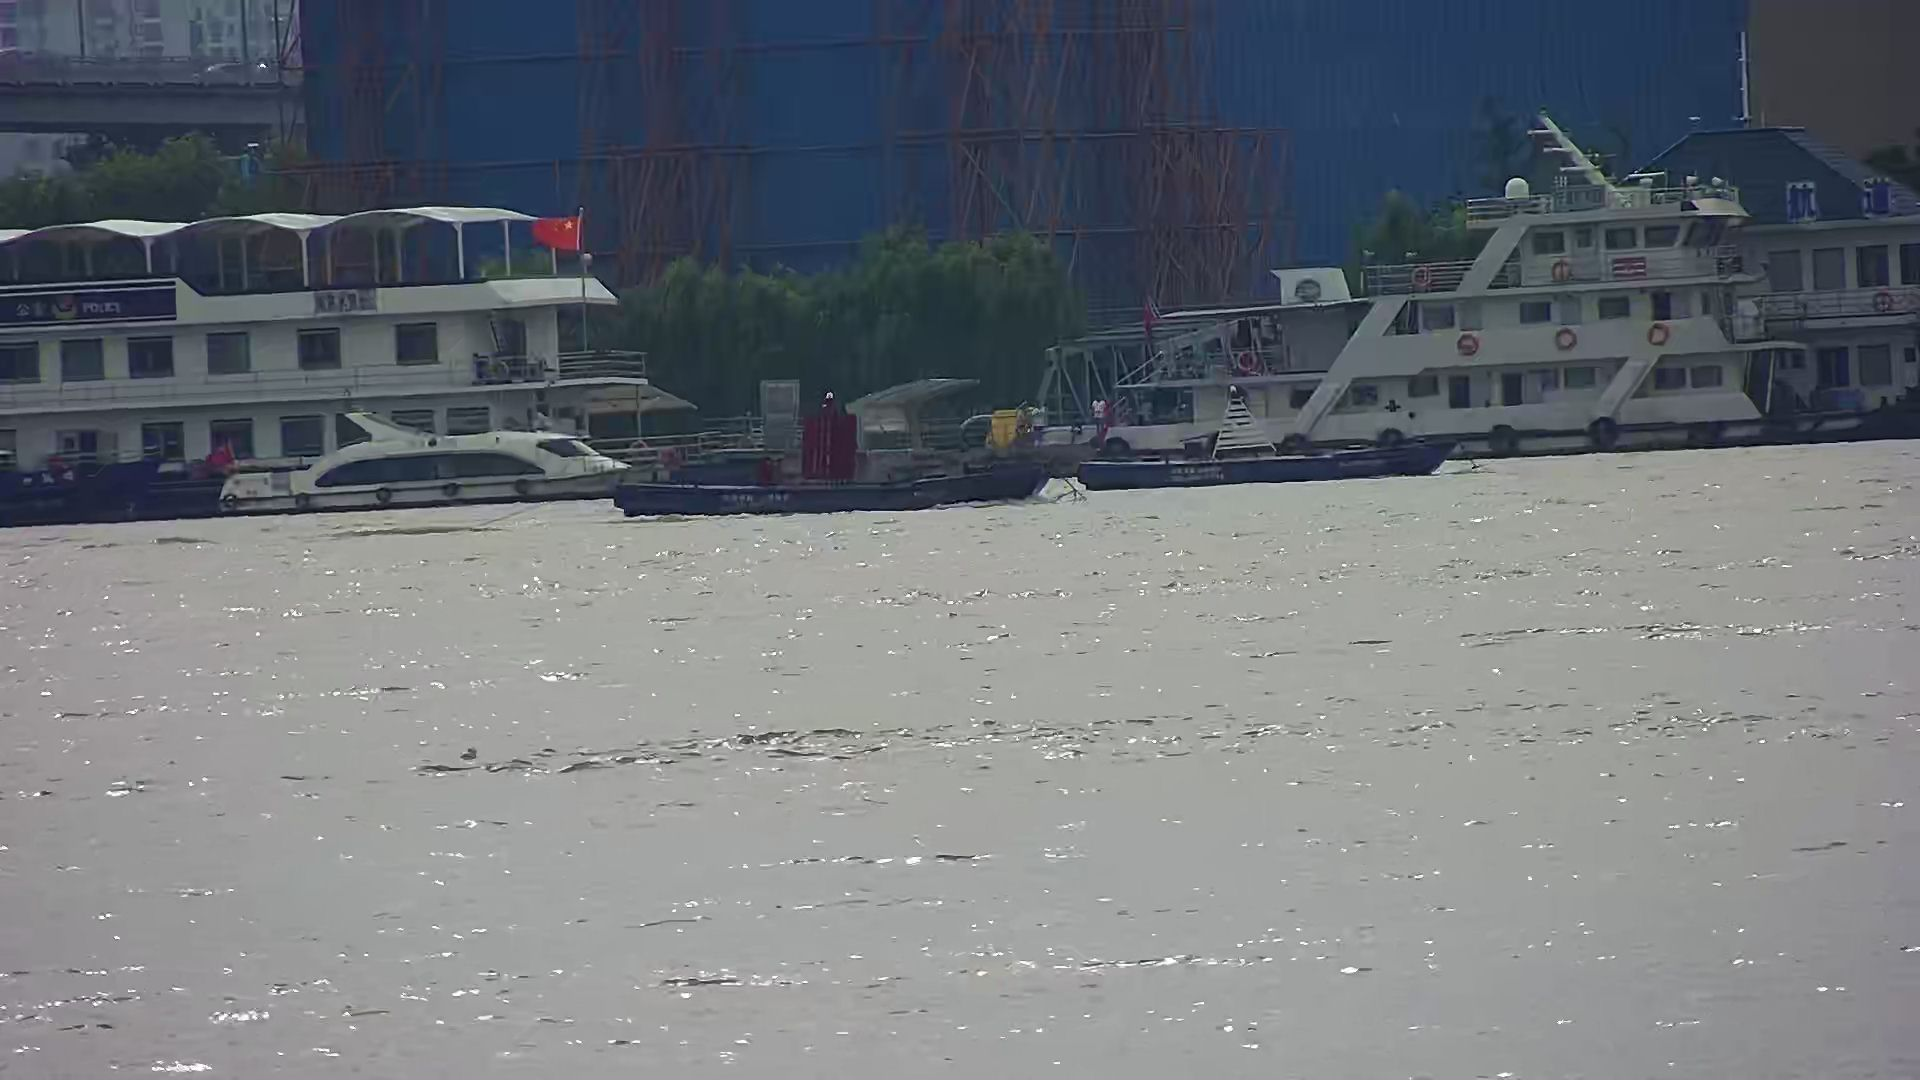boat: (618, 389, 1051, 512), (1076, 385, 1458, 487)
ship: (992, 117, 1812, 458), (216, 410, 665, 513), (1, 447, 166, 526)
